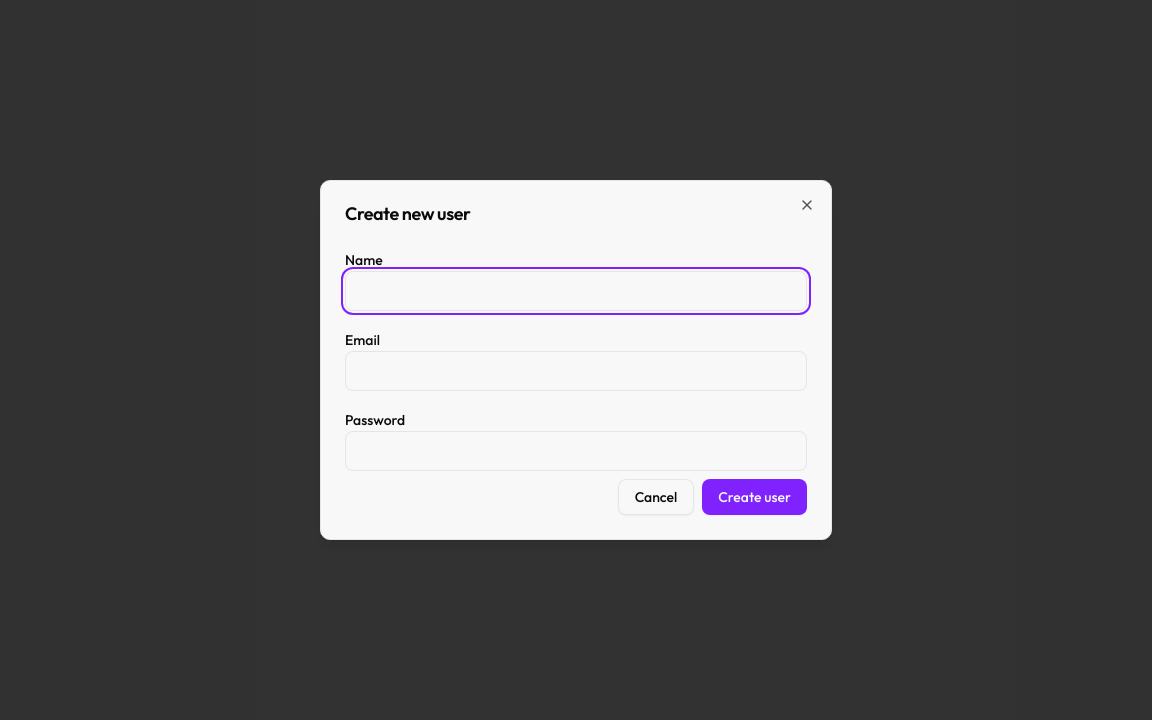
Test: UserDialog — create mode › form validation › shows all field errors when submitting an empty form
The image size is (1152, 720).
Click the button "Create user": (755, 497) [702, 479, 807, 515]
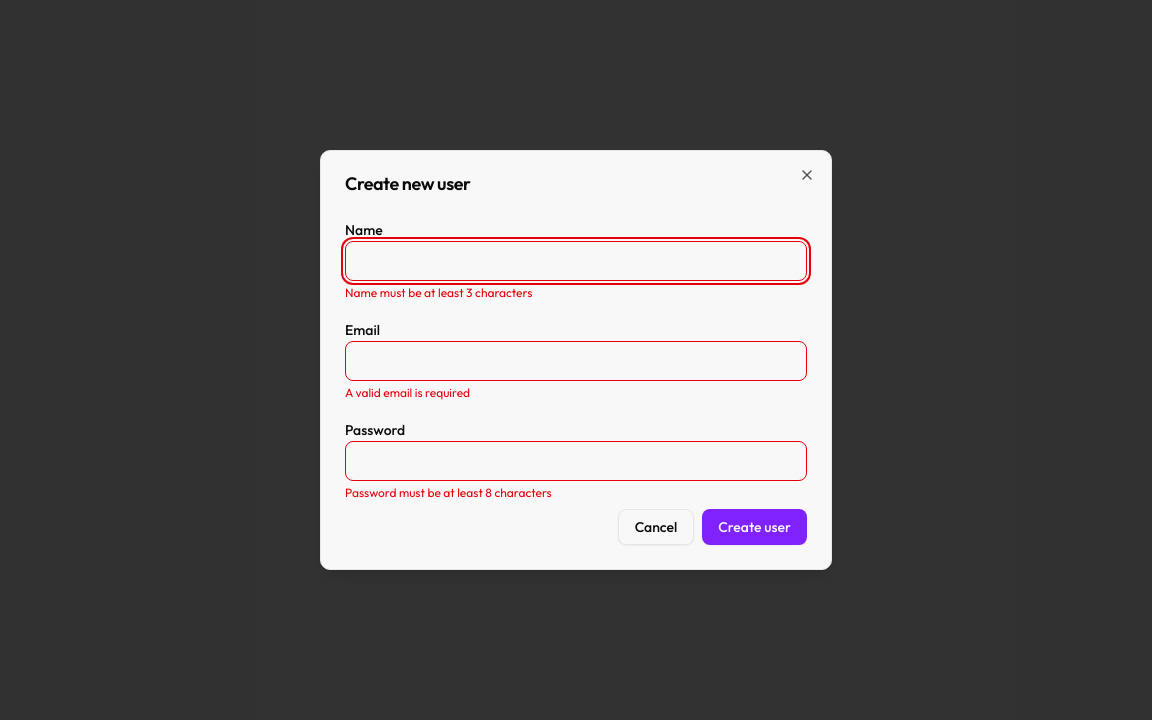
expect the text "Name must be at least 3 characters" is shown: met, box [345, 285, 532, 300]
expect the text "A valid email is required" is shown: met, box [345, 385, 470, 400]
expect the text "Password must be at least 8 characters" is shown: met, box [345, 485, 552, 500]
